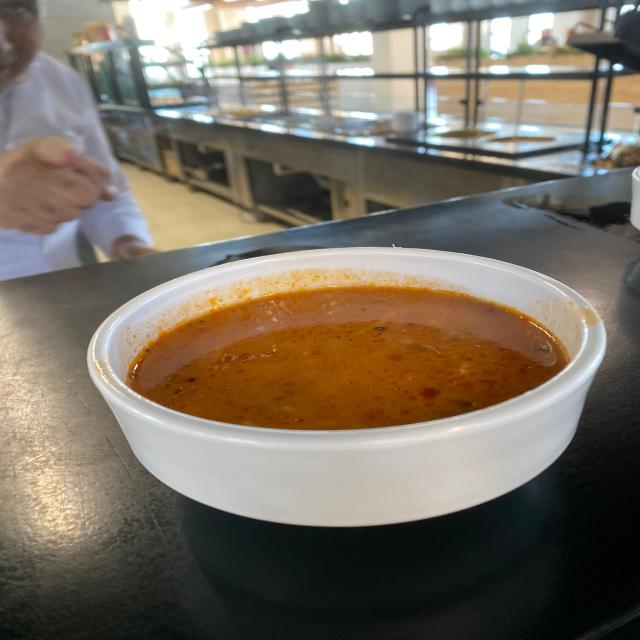corba: (85, 244, 608, 528)
